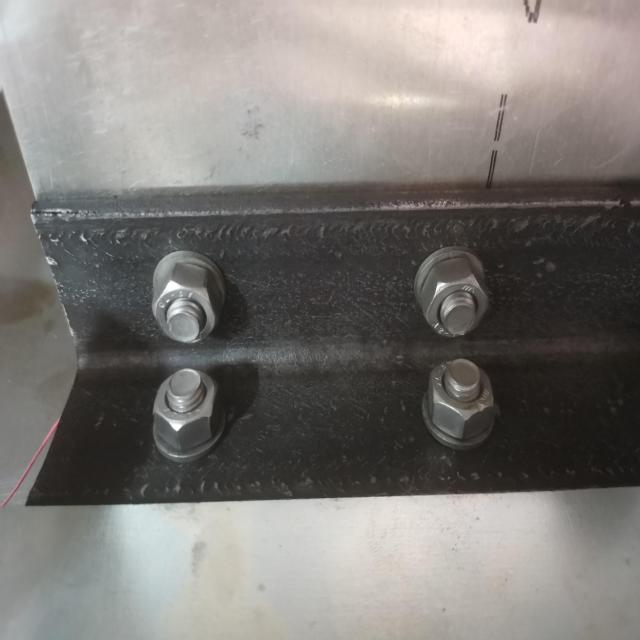bolt nut: (152, 366, 224, 452), (150, 263, 223, 344), (418, 258, 490, 338), (427, 358, 495, 440)
